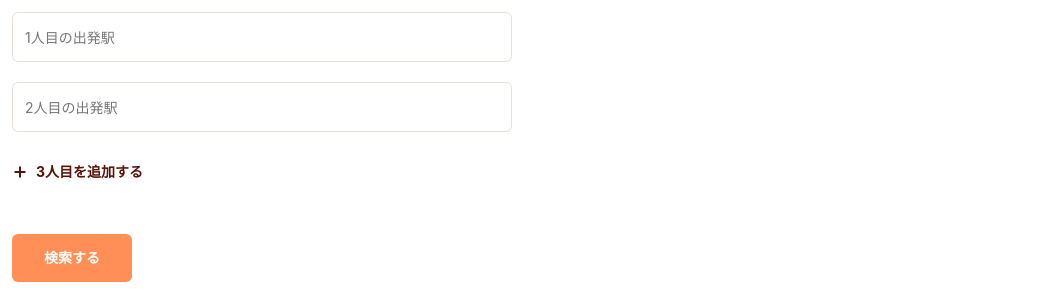
Test: StationSearchForm › 動的行 › 追加ボタンを押したとき、フィールドが最大6件まで増える
Expected: the dropdown with placeholder "1人目の出発駅" is shown, [25,13,499,61]
Expected: the dropdown with placeholder "2人目の出発駅" is shown, [25,83,499,131]
Click the button "3人目を追加する". click: (90, 172)
box: [12,152,512,192]
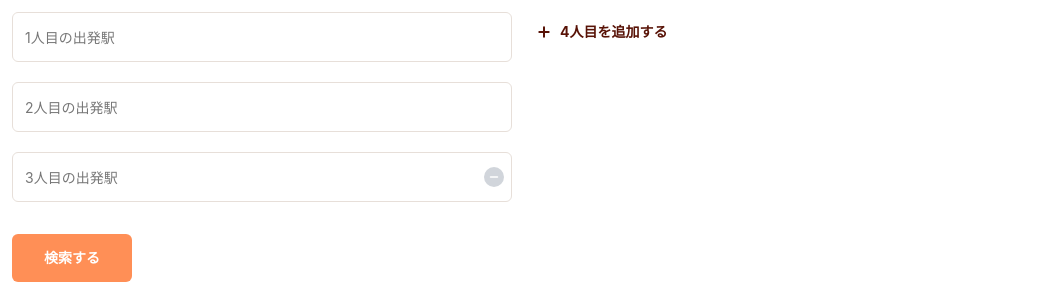
Expected: the dropdown with placeholder "3人目の出発駅" is shown, [25,153,499,201]
Click the button "4人目を追加する". click: (614, 32)
box: [536,12,1036,52]
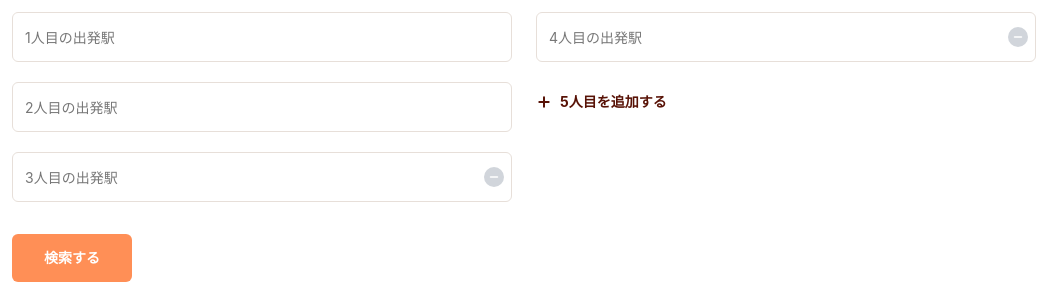
Expected: the dropdown with placeholder "4人目の出発駅" is shown, [549,13,1023,61]
Click the button "5人目を追加する". click: (613, 102)
box: [536,82,1036,122]
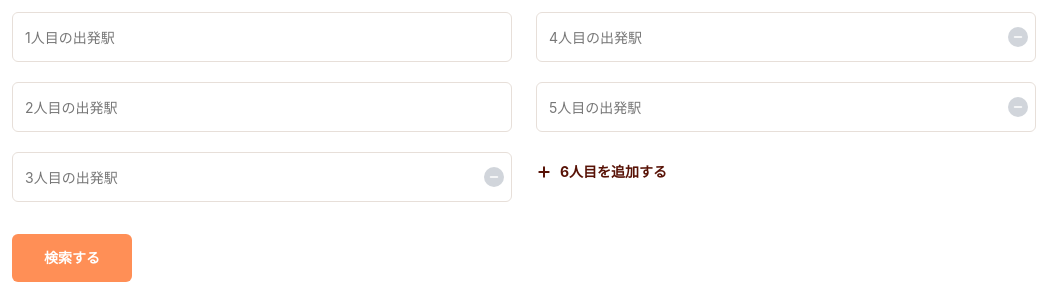
Expected: the dropdown with placeholder "5人目の出発駅" is shown, [549,83,1023,131]
Click the button "6人目を追加する". click: (614, 172)
box: [536,152,1036,192]
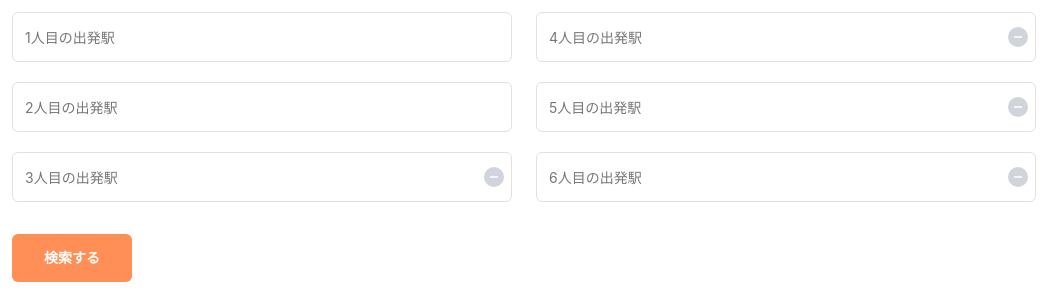
Expected: the dropdown with placeholder "6人目の出発駅" is shown, [549,153,1023,201]
Expected: the button "追加する" is gone
